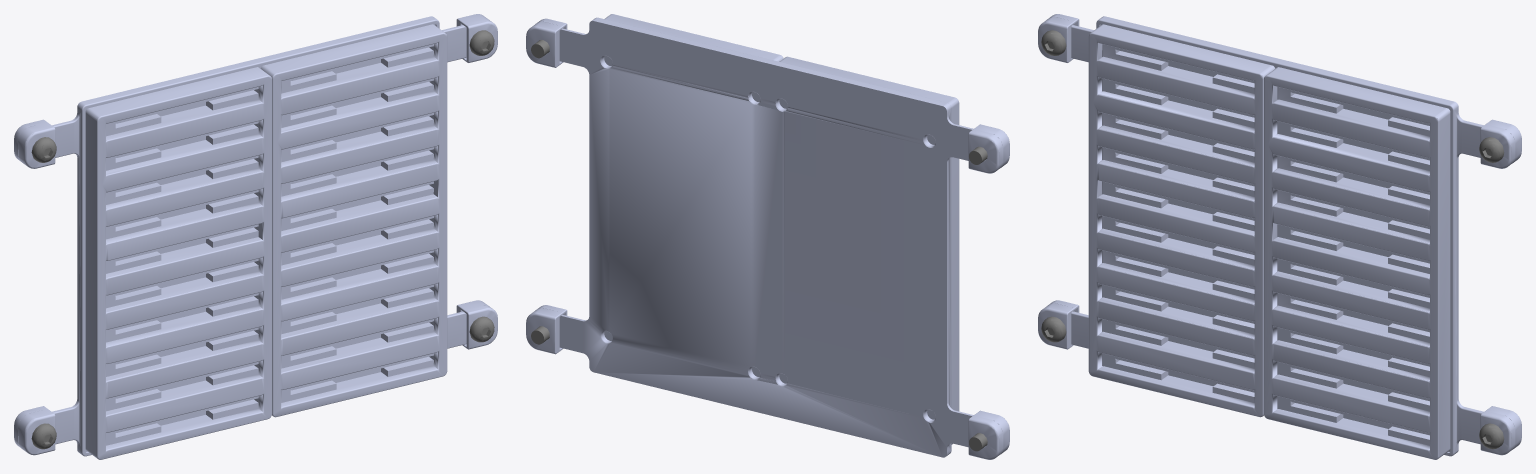
File: pcb_tray.glb
3 renders of one model, left to right at view 1: azimuth 30°, elevation 25°; view 2: azimuth 150°, elevation 25°; view 3: azimuth 330°, elevation 25°, orthographic.
Parts seen in each view (by area): view 1: g1, g0; view 2: g1, g0; view 3: g1, g0.
Part boxes in pixels (x1,y1,x2,y2): g1: (14, 14, 497, 459); g0: (31, 30, 494, 449); g1: (526, 14, 1009, 459); g0: (531, 39, 987, 451); g1: (1038, 14, 1521, 459); g0: (1041, 30, 1504, 449).
Bounding box in the file's own units: 0.2163 × 0.1534 × 0.0223.
